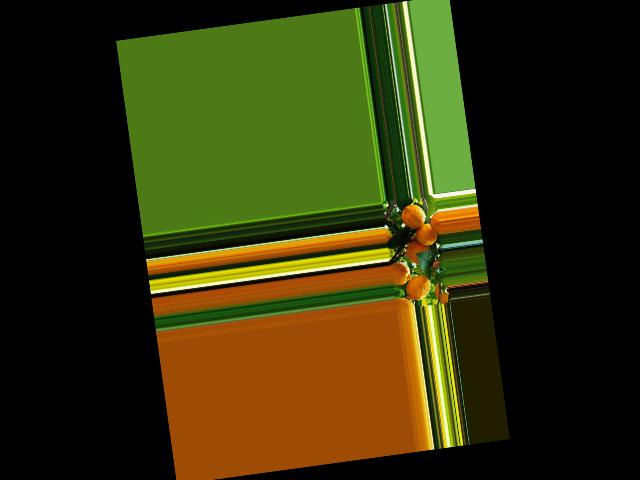lemon: (401, 200, 429, 231)
